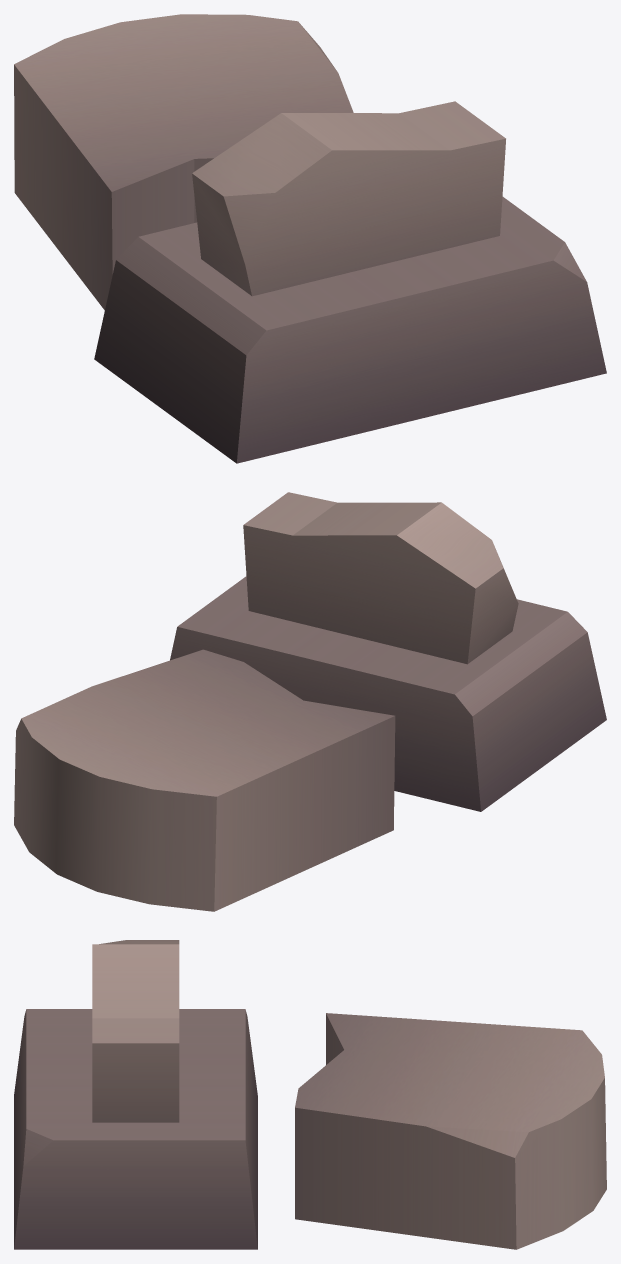
File: tombstone11.glb
3 views of the same model, one above another, from view 1: azimuth 30°, elevation 25°; view 2: azimuth 150°, elevation 25°; view 3: azimuth 270°, elevation 25° (orthographic). The views are drawn at different scales.
Visible parts, largest first — view 1: tombstone11; view 2: tombstone11; view 3: tombstone11.
Part boxes in pixels (x1,y1,x2,y2): tombstone11: (14, 14, 606, 463); tombstone11: (14, 492, 606, 911); tombstone11: (14, 940, 606, 1249).
Size of the model in its own units: 0.6395 by 0.4062 by 1.02.
1 material, 1 textured.
